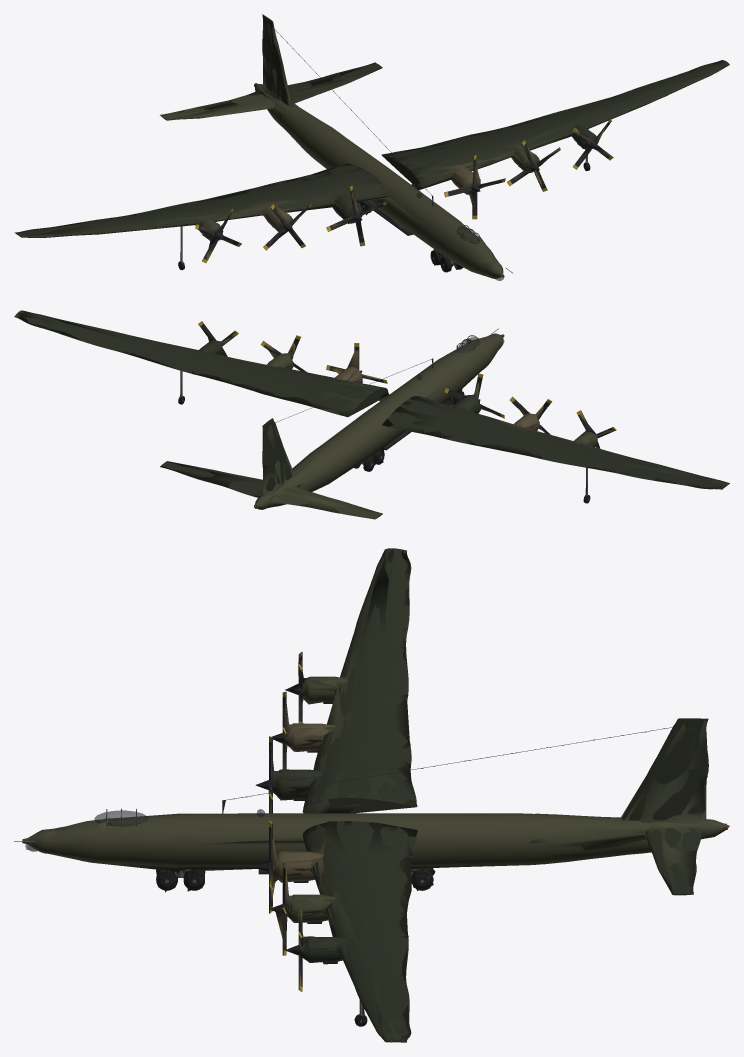
File: bomber_w.glb
3 views of the same model, one above another, from view 1: azimuth 30°, elevation 25°; view 2: azimuth 150°, elevation 25°; view 3: azimuth 270°, elevation 25° (orthographic). The views are drawn at different scales.
Visible parts, largest first — view 1: L0_01_hull_opaque, L1_03_hull_opaque, L2_04_hull_opaque; view 2: L0_01_hull_opaque, L1_03_hull_opaque, L2_04_hull_opaque; view 3: L0_01_hull_opaque, L2_04_hull_opaque, L1_03_hull_opaque, L0_00_hull_glass.
Part boxes in pixels (box(x1,y1,x2,y2)): L0_01_hull_opaque: box(14, 14, 729, 278); L1_03_hull_opaque: box(17, 21, 728, 278); L2_04_hull_opaque: box(17, 26, 728, 277); L0_01_hull_opaque: box(14, 310, 729, 519); L1_03_hull_opaque: box(17, 311, 729, 519); L2_04_hull_opaque: box(17, 310, 723, 518); L0_01_hull_opaque: box(14, 548, 729, 1042); L2_04_hull_opaque: box(28, 550, 728, 1040); L1_03_hull_opaque: box(22, 548, 727, 1041); L0_00_hull_glass: box(25, 809, 264, 851).
Bounding box in the file's own units: 55.24 × 8.79 × 33.93.
